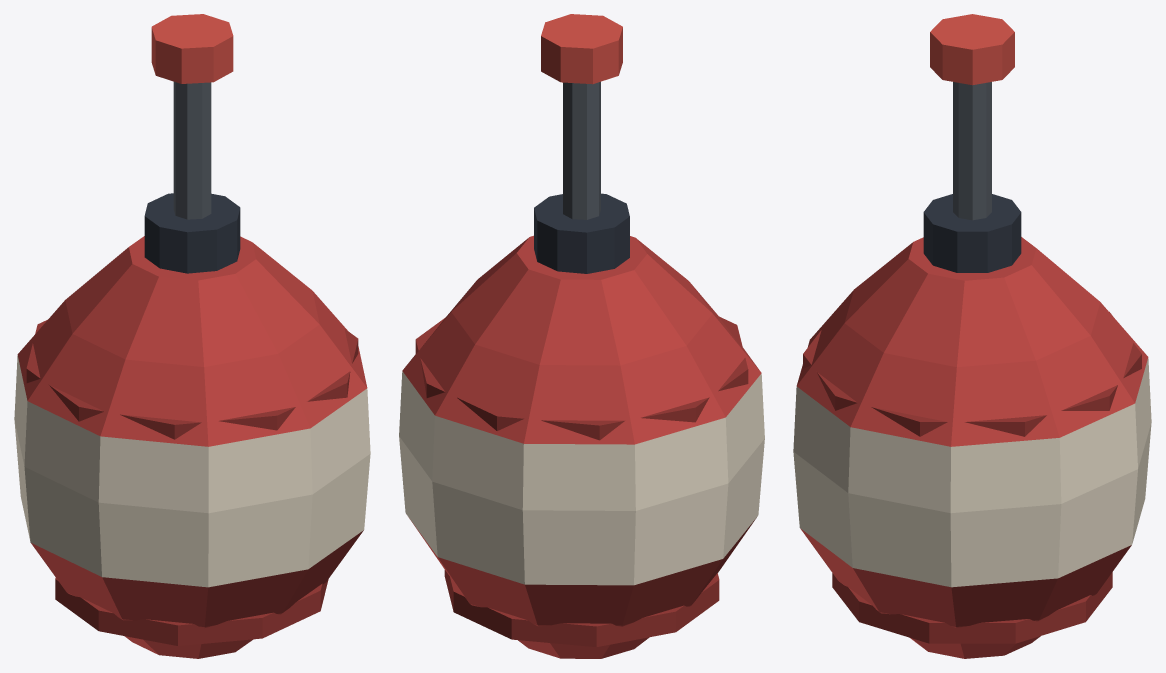
Rendered from Buoy_01.obj.
The picture shows the model from 3 angles, left to right: view 1: azimuth 30°, elevation 25°; view 2: azimuth 150°, elevation 25°; view 3: azimuth 270°, elevation 25°; orthographic projection.
Visible parts, largest first — view 1: Buoy_01; view 2: Buoy_01; view 3: Buoy_01.
Part boxes in pixels (left/top/right/bottom): Buoy_01: left=14, top=14, right=370, bottom=658; Buoy_01: left=399, top=14, right=764, bottom=658; Buoy_01: left=793, top=14, right=1151, bottom=658.
Bounding box in the file's own units: 1.11 × 2.03 × 1.1.
Materials: 1 (1 with a texture image).
